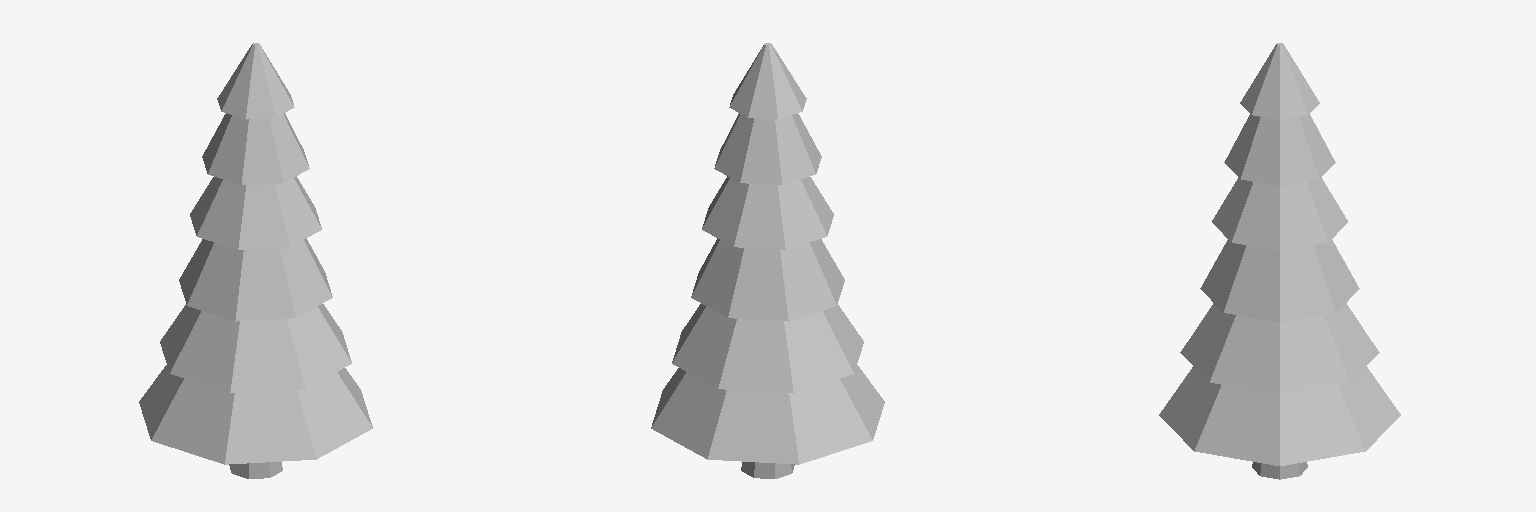
The model's file is evergreen.obj.
3 views of the same model, side by side, from view 1: azimuth 30°, elevation 25°; view 2: azimuth 150°, elevation 25°; view 3: azimuth 270°, elevation 25° (orthographic).
Parts seen in each view (by area): view 1: pCylinder1, pCylinder3; view 2: pCylinder1, pCylinder3; view 3: pCylinder1, pCylinder3.
Part boxes in pixels (x1,y1,x2,y2): pCylinder1: (139, 43, 372, 464); pCylinder3: (229, 462, 282, 478); pCylinder1: (651, 43, 884, 464); pCylinder3: (741, 462, 794, 478); pCylinder1: (1159, 43, 1400, 465); pCylinder3: (1252, 462, 1307, 479).
Bounding box in the file's own units: 8.68 × 16.74 × 8.68.